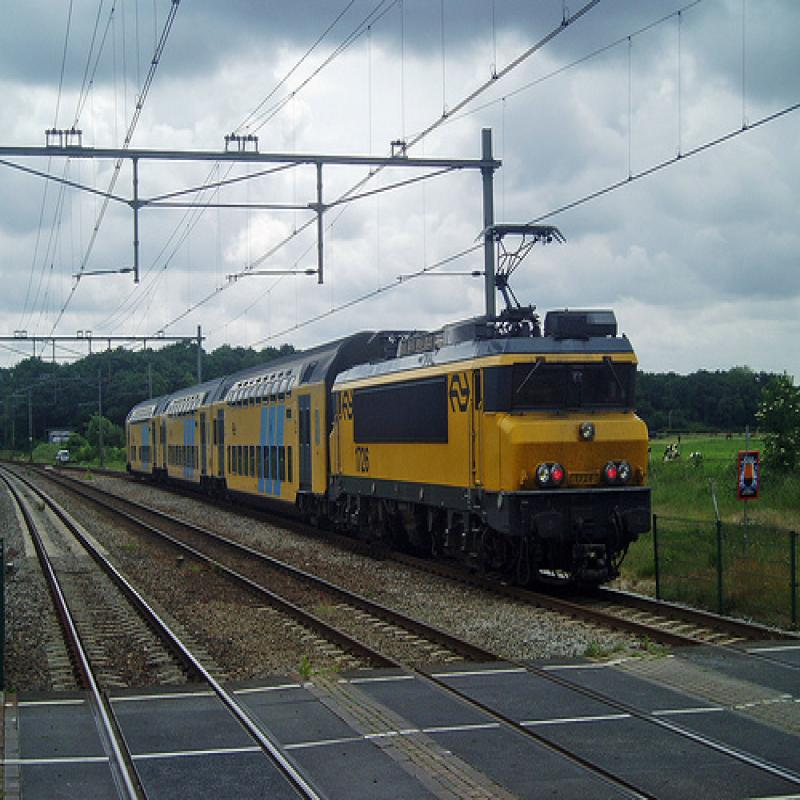train: (128, 306, 653, 586)
